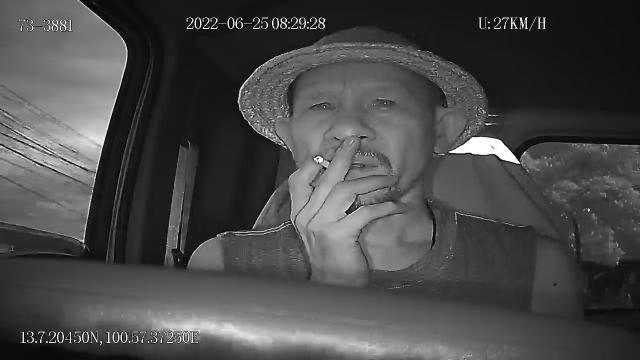SafeDriving: (365, 88, 404, 114), (303, 93, 340, 118)
Smoking: (313, 154, 332, 170)
